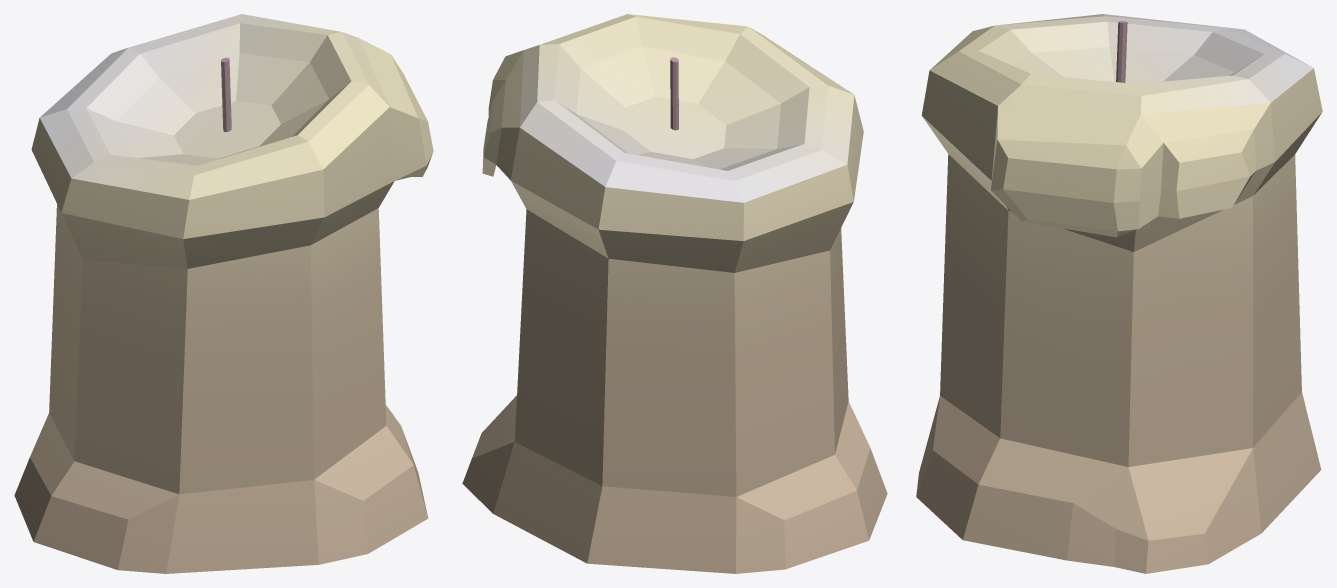
The model's file is Single Candle.fbx.
3 renders of one model, left to right at view 1: azimuth 30°, elevation 25°; view 2: azimuth 150°, elevation 25°; view 3: azimuth 270°, elevation 25°, orthographic. The views are drawn at different scales.
Parts seen in each view (by area): view 1: Candle; view 2: Candle; view 3: Candle.
Boxes of the visible parts, x1=… form: Candle: x1=14, y1=14, x2=433, y2=573; Candle: x1=462, y1=14, x2=887, y2=573; Candle: x1=916, y1=14, x2=1322, y2=573.
Size of the model in its own units: 19.53 by 21.41 by 17.21.
